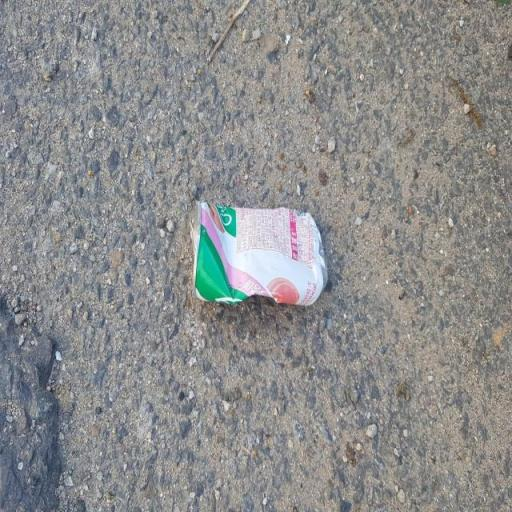metal: (152, 161, 342, 342)
